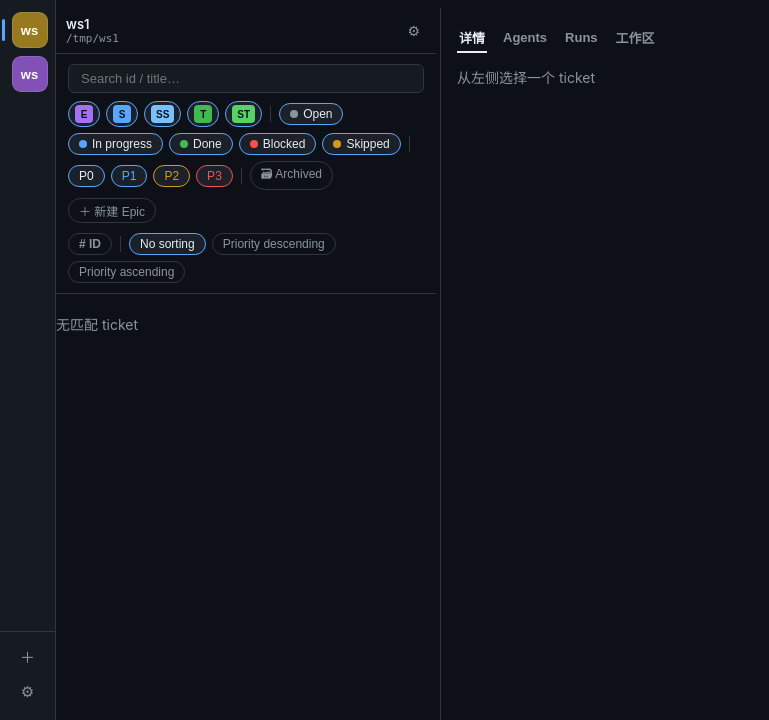
Scenario: U2 右键菜单（R4） › 右键非当前工作区选「工作区设置」：切换到该工作区并打开设置标签页
Expected: the text with class "workspace-name" reads "ws1", [66,16,90,32]
Right-click the 2nd button with class "rail-icon": [30, 74] box [12,56,48,92]
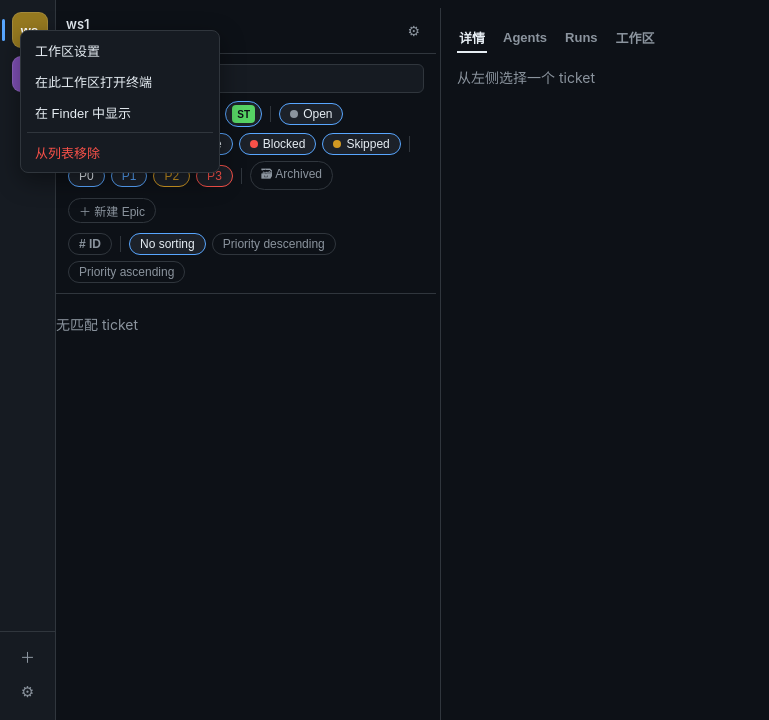
Expected: the menu with class "ws-context-menu" is shown, [20,30,220,173]
Click the menu item "工作区设置": [120, 50] box [25,35,215,66]
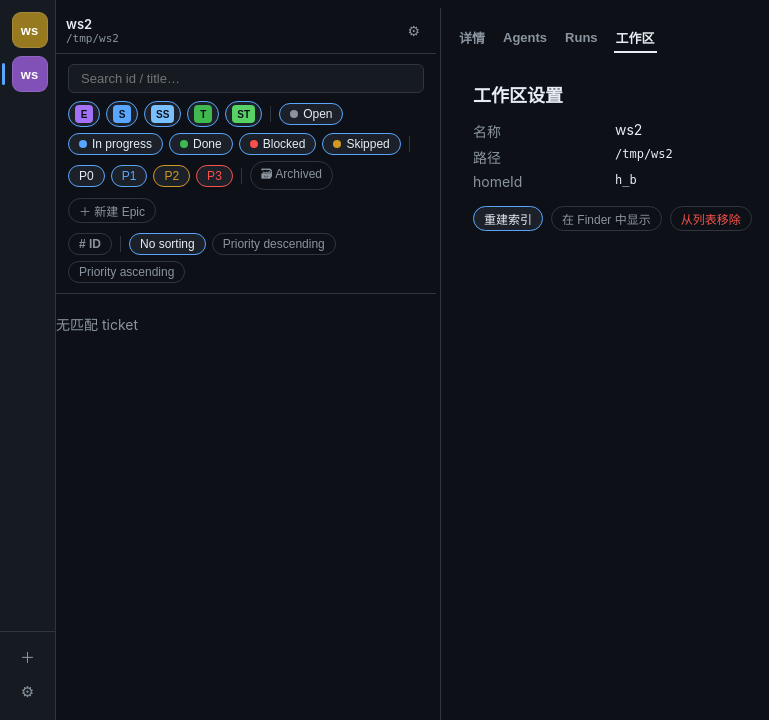
Expected: the heading "工作区设置" is shown, [473,85,563,106]
Expected: the text with class "workspace-name" reads "ws2", [66,16,92,32]
Expected: the element with class "workspace-settings-page" is shown, [473,85,752,231]
